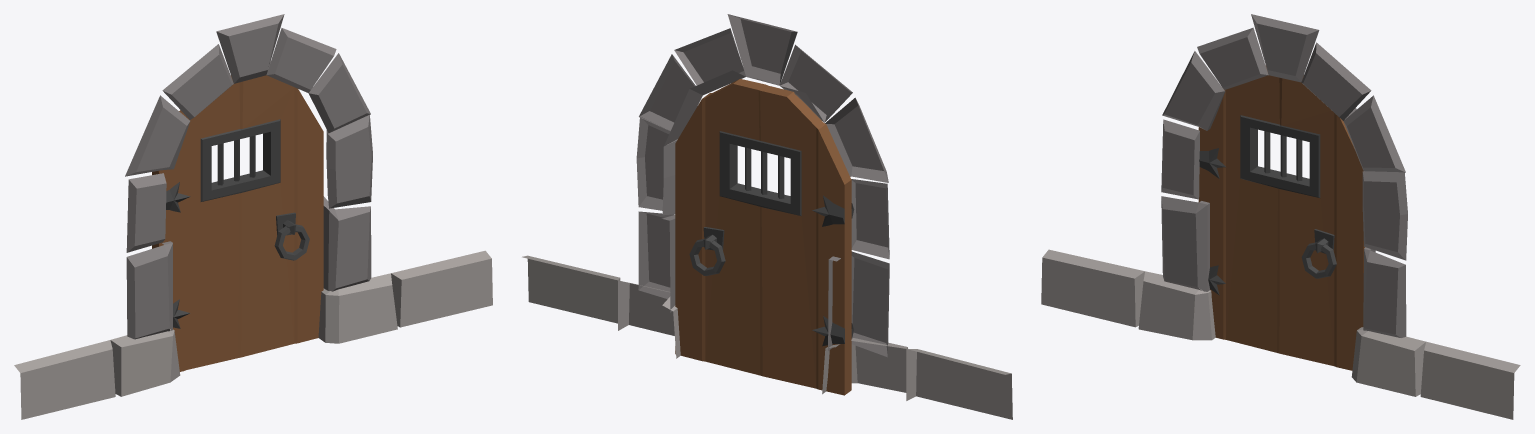
File: door.fbx
The picture shows the model from 3 angles, left to right: view 1: azimuth 30°, elevation 25°; view 2: azimuth 150°, elevation 25°; view 3: azimuth 330°, elevation 25°; orthographic projection. The views are drawn at different scales.
Visible parts, largest first — view 1: dungeon-door-stone, door-wood; view 2: door-wood, dungeon-door-stone; view 3: dungeon-door-stone, door-wood.
Part boxes in pixels (x1,y1,x2,y2): dungeon-door-stone: (14, 14, 492, 419); door-wood: (152, 75, 323, 371); door-wood: (675, 79, 854, 395); dungeon-door-stone: (522, 14, 1012, 419); dungeon-door-stone: (1041, 14, 1520, 419); door-wood: (1198, 65, 1364, 370).
Size of the model in its own units: 400 by 272 by 40.98.
